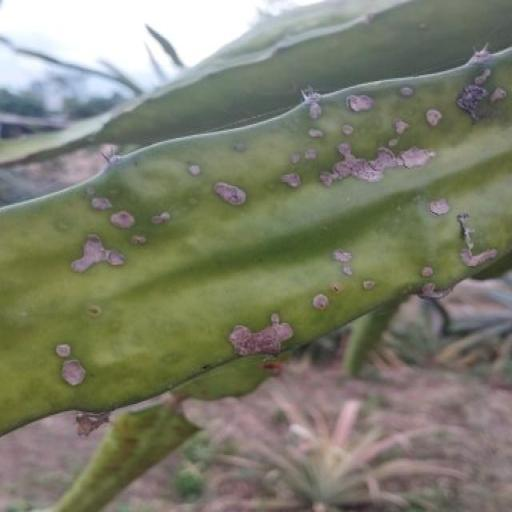stemcanker: (407, 453, 431, 483), (74, 136, 98, 163), (135, 260, 160, 284), (163, 320, 185, 345), (48, 94, 69, 118), (378, 477, 400, 498), (286, 403, 310, 422), (116, 228, 134, 252), (358, 261, 378, 282), (211, 362, 231, 380), (418, 299, 435, 318), (324, 416, 340, 436), (273, 366, 286, 390), (326, 249, 342, 267), (372, 420, 386, 437), (337, 273, 352, 287)
